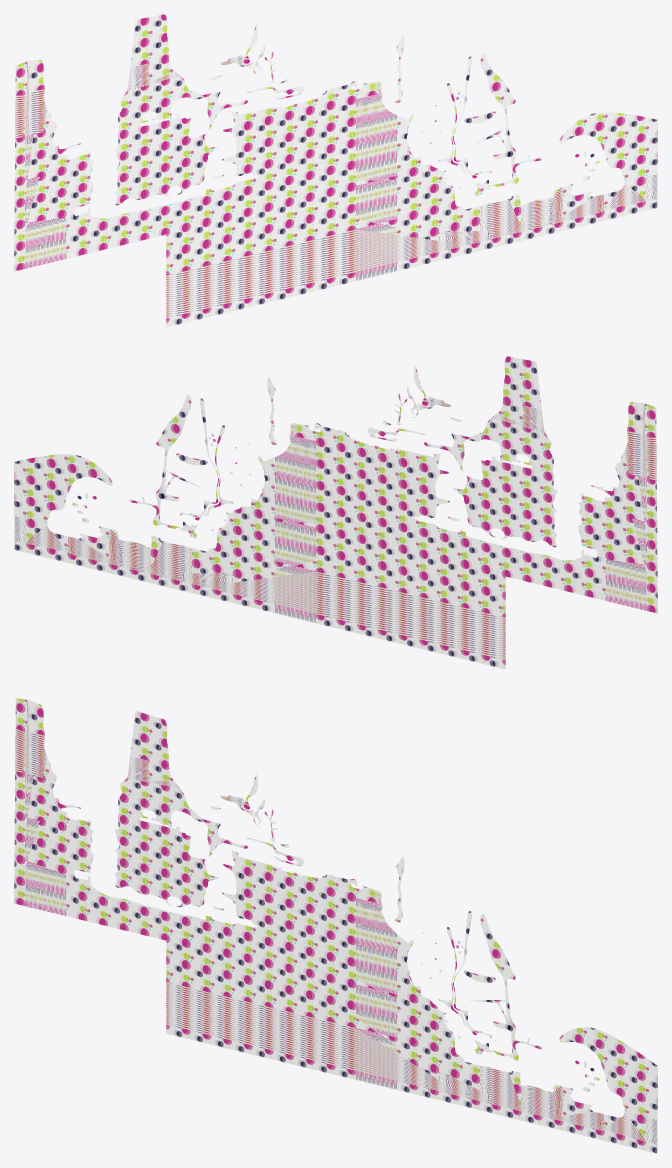
File: kinoko02.glb
3 views of the same model, one above another, from view 1: azimuth 30°, elevation 25°; view 2: azimuth 150°, elevation 25°; view 3: azimuth 330°, elevation 25° (orthographic).
Parts seen in each view (by area): view 1: kinoko02; view 2: kinoko02; view 3: kinoko02.
Part boxes in pixels (x1,y1,x2,y2): kinoko02: [14, 14, 657, 327]; kinoko02: [14, 356, 657, 669]; kinoko02: [14, 698, 657, 1153].
Size of the model in its own units: 6226 by 2918 by 3.81e-05.
Materials: 1 (1 with a texture image).
